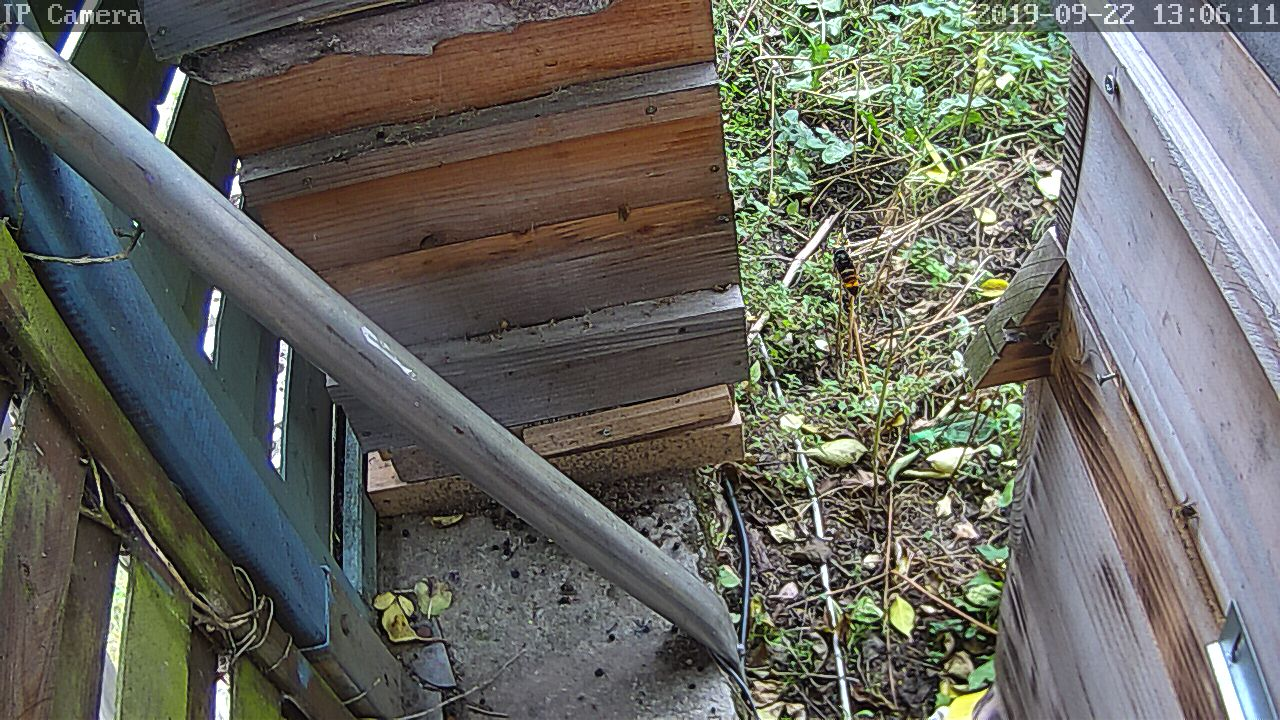bee: (1167, 499, 1203, 526)
hornet: (826, 247, 865, 299)
